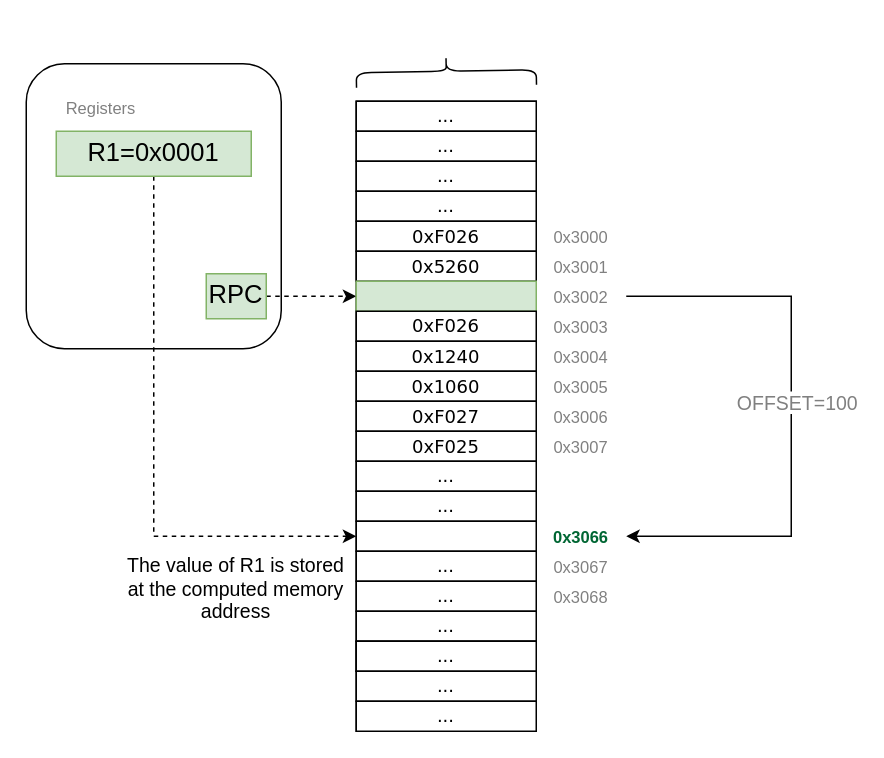
This 884x758 diagram has some shape labels left out. The centre of each missing label's shape, as x and y in pixels:
"0x0001" belongs at (445,535).
"Main Memory" belongs at (445,70).
"st SR 100" belongs at (445,295).
